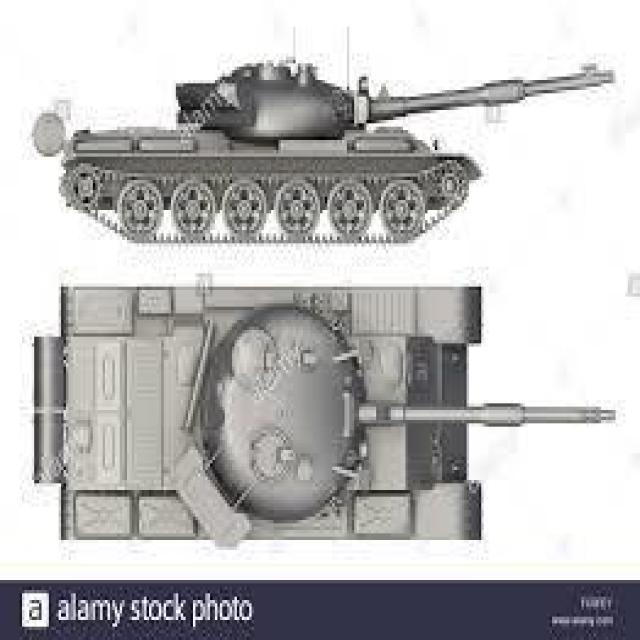Tanks: (26, 260, 616, 567), (31, 20, 629, 250)
